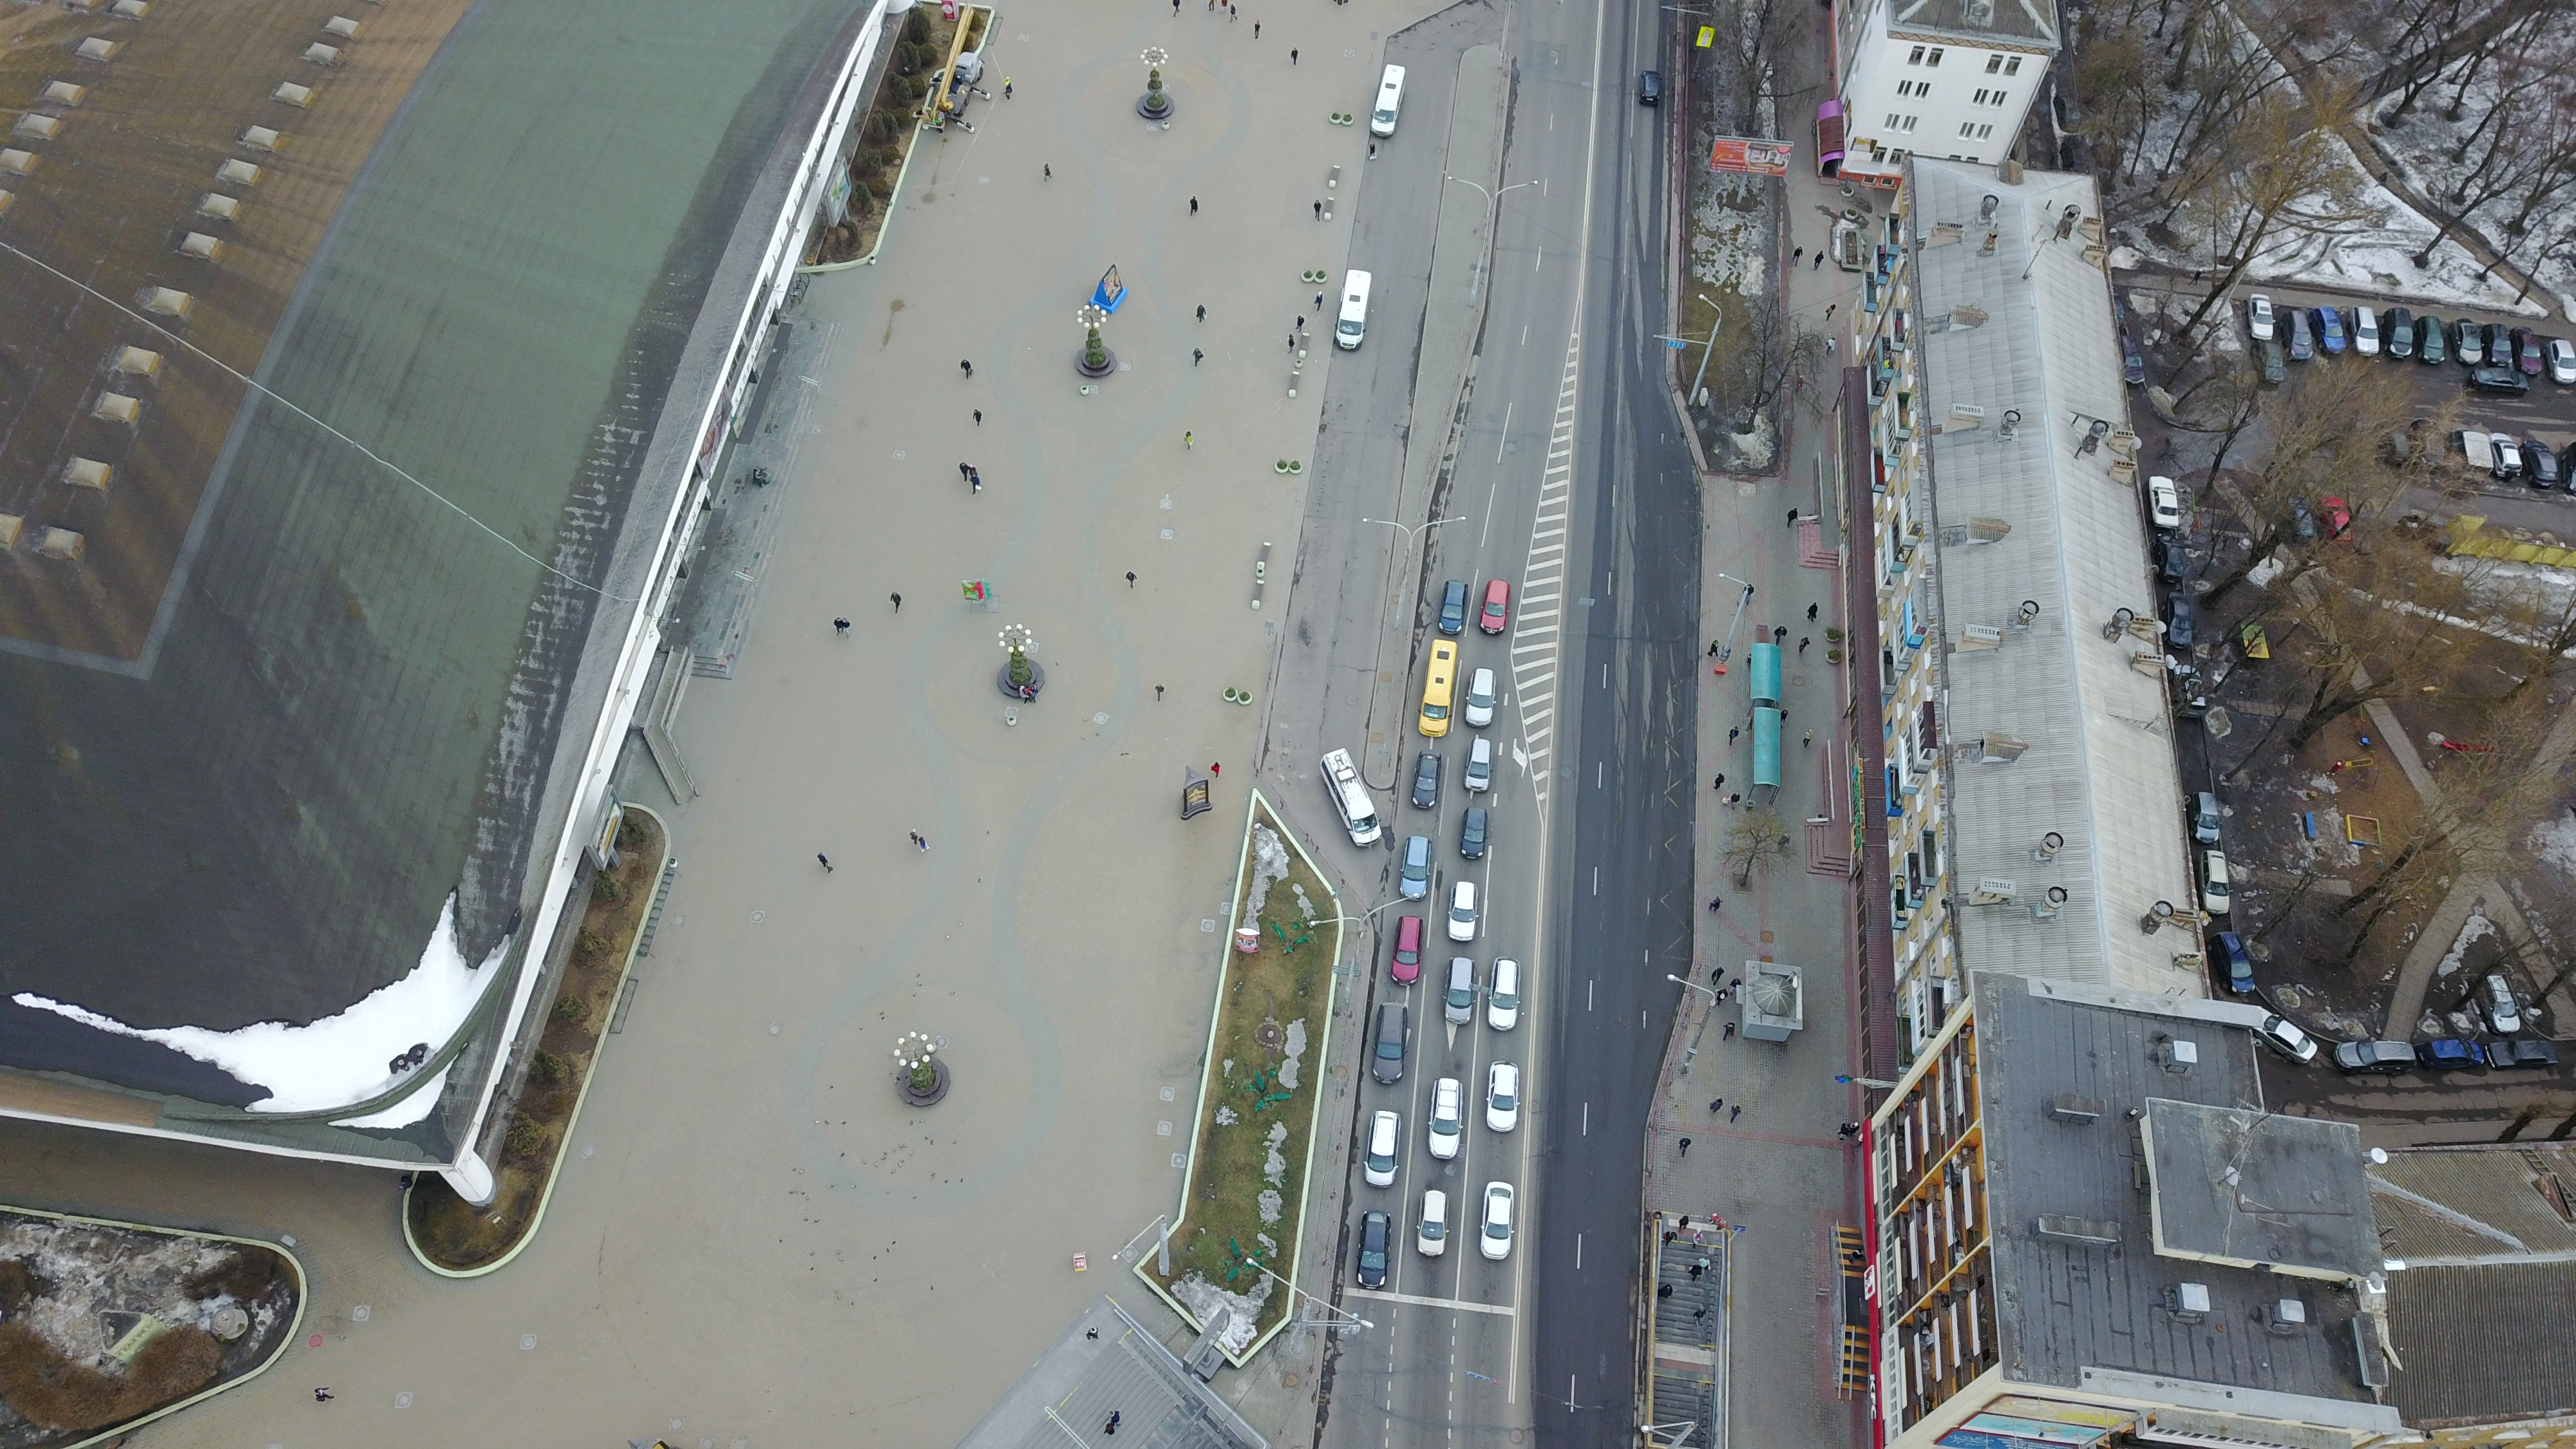car: (1476, 1177, 1520, 1265), (1353, 1201, 1394, 1293), (1361, 1106, 1403, 1189), (1369, 1000, 1410, 1083), (1426, 1074, 1465, 1161), (1484, 952, 1525, 1033), (1394, 832, 1440, 901), (1412, 1185, 1453, 1260), (1389, 911, 1426, 989), (1484, 1060, 1522, 1136), (1440, 954, 1476, 1028), (1454, 801, 1493, 867), (1444, 879, 1481, 943), (1463, 663, 1499, 729), (1477, 573, 1514, 633), (1407, 750, 1445, 807), (1437, 575, 1470, 639), (1463, 736, 1497, 794), (1638, 67, 1663, 110)
